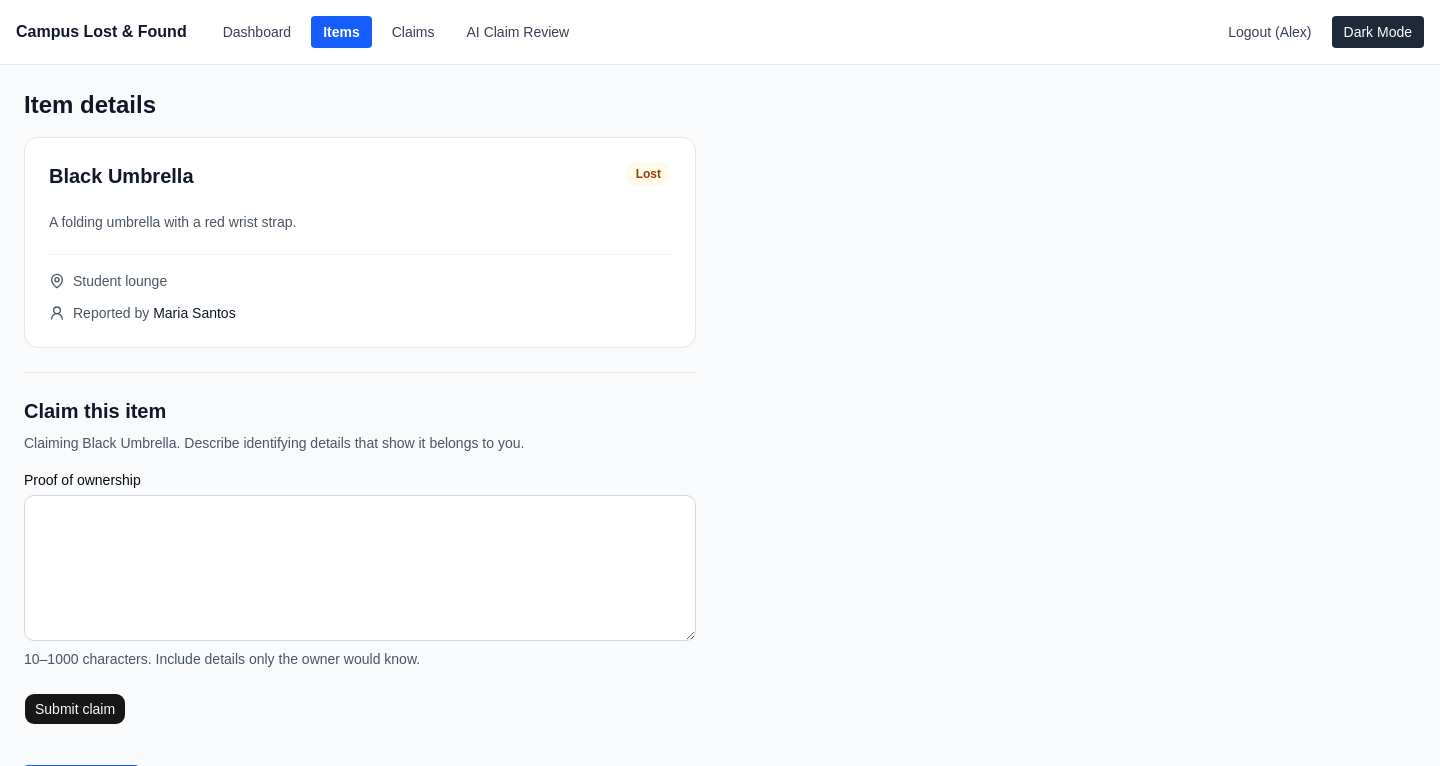
Test: item claim flow › rejects short proof without sending a claim
In the text box labelled "Proof of ownership": (360, 568) [24,495,696,641], type "short"
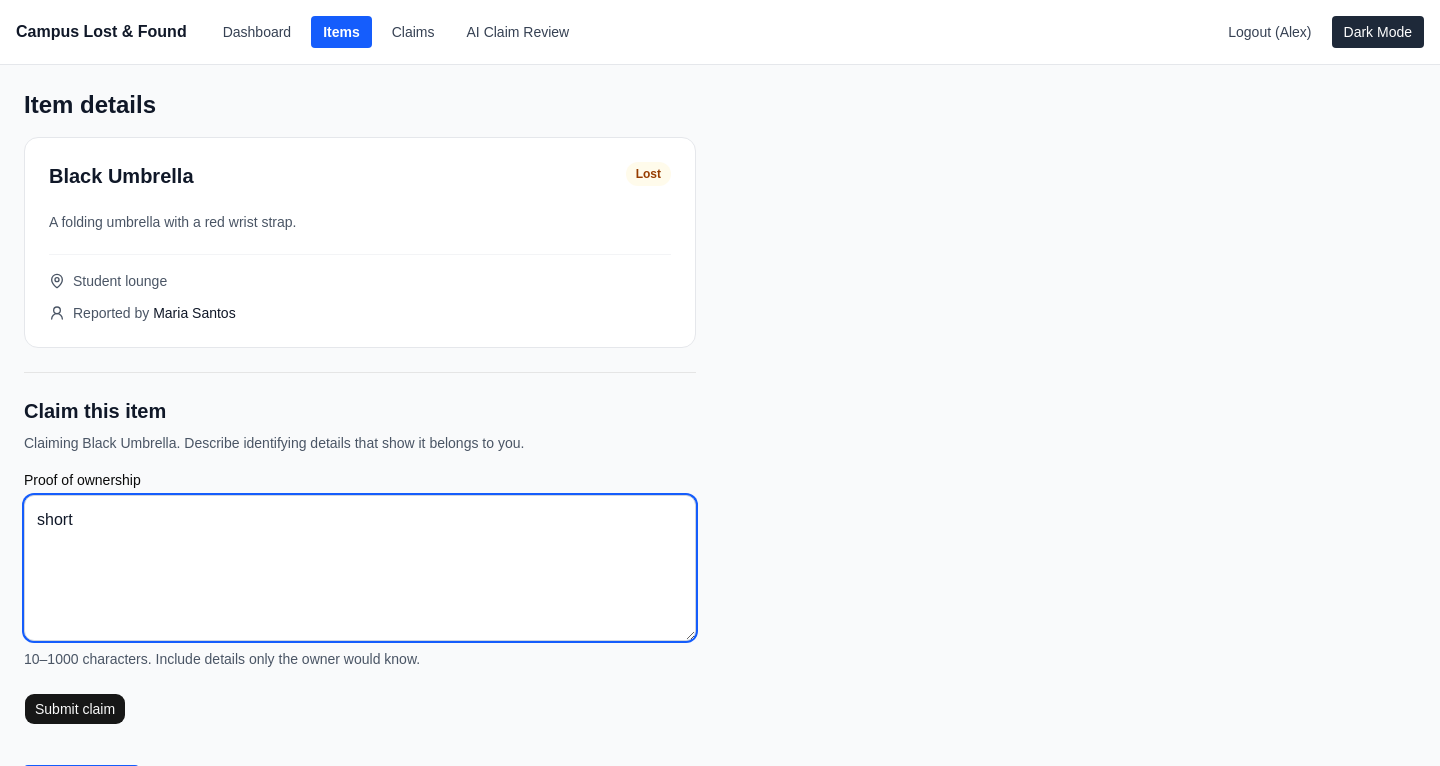
Click the button "Submit claim": (75, 709) [24,693,126,725]
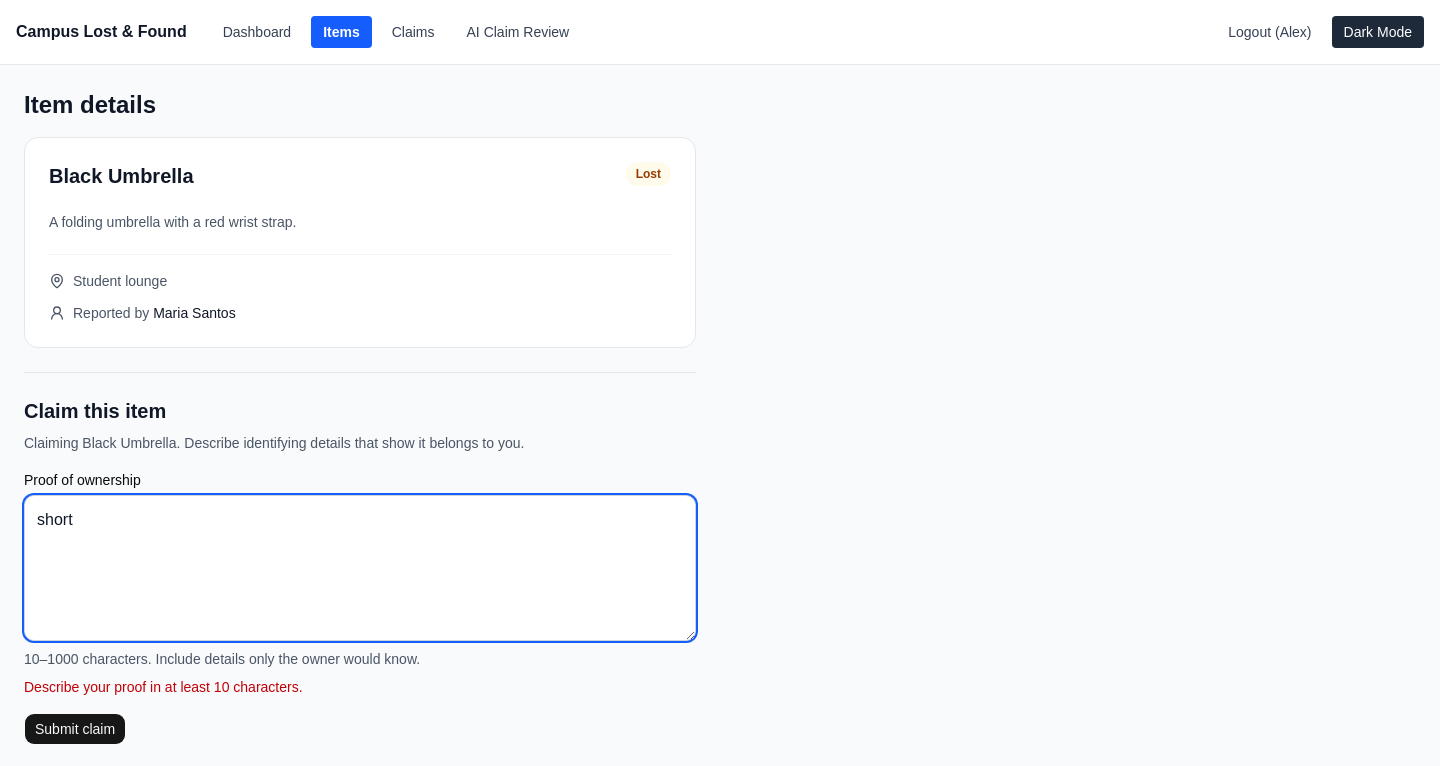
Result: the text "Describe your proof in at least 10 characters." is shown at [24,679,303,695]
